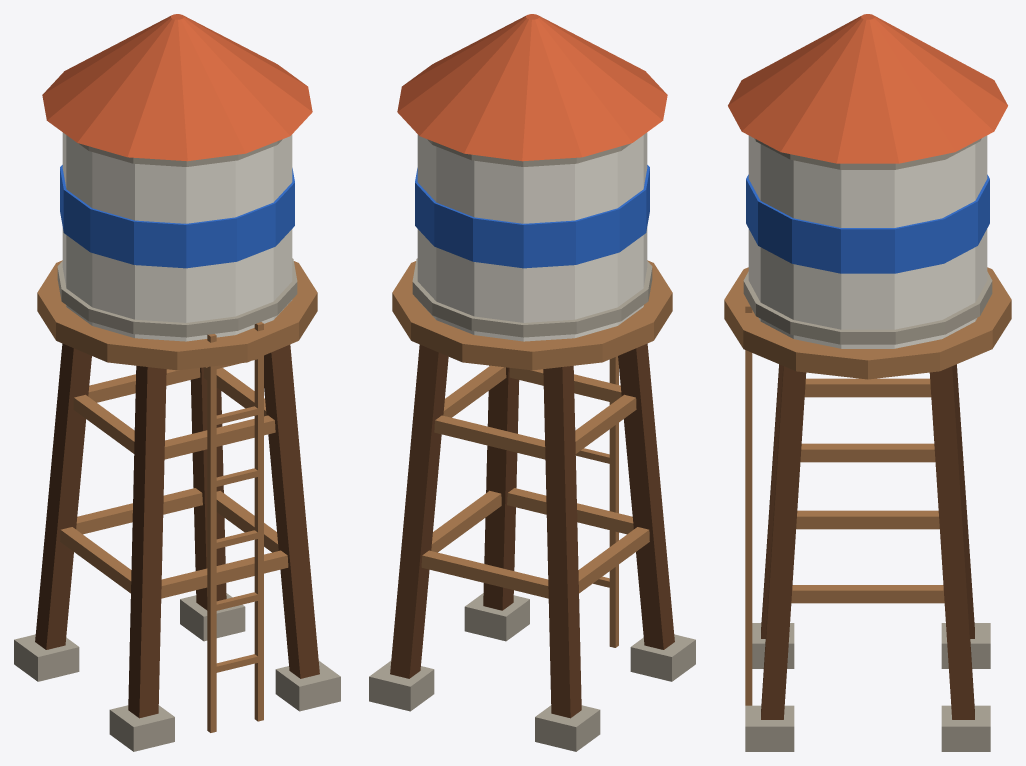
The model's file is water_tower.glb.
3 renders of one model, left to right at view 1: azimuth 30°, elevation 25°; view 2: azimuth 150°, elevation 25°; view 3: azimuth 270°, elevation 25°, orthographic. The views are drawn at different scales.
Parts seen in each view (by area): view 1: water_tower; view 2: water_tower; view 3: water_tower.
Part boxes in pixels (x1,y1,x2,y2): water_tower: (14, 14, 340, 751); water_tower: (369, 14, 695, 751); water_tower: (724, 14, 1011, 751).
Bounding box in the file's own units: 0.82 × 2.15 × 0.82.
